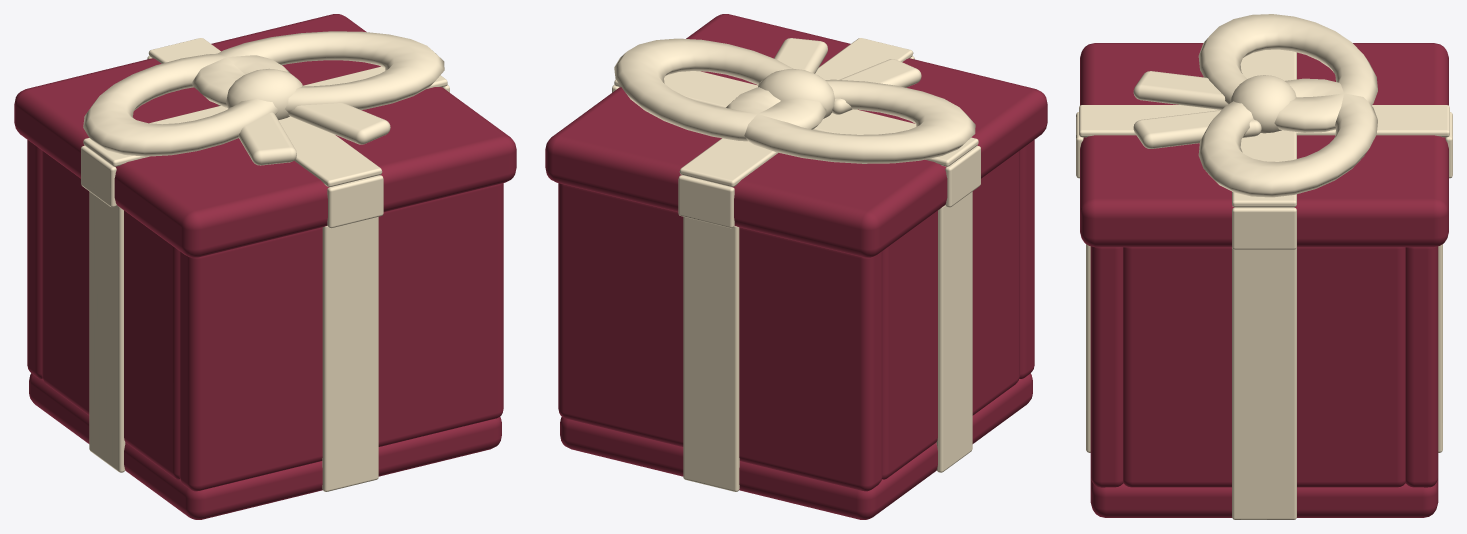
The model's file is gift.glb.
3 renders of one model, left to right at view 1: azimuth 30°, elevation 25°; view 2: azimuth 150°, elevation 25°; view 3: azimuth 270°, elevation 25°, orthographic. The views are drawn at different scales.
Parts seen in each view (by area): view 1: Gift_Body, Gift_Lid, Gift_Bow; view 2: Gift_Body, Gift_Lid, Gift_Bow; view 3: Gift_Body, Gift_Lid, Gift_Bow.
Boxes of the visible parts, left/top/right/bottom form: Gift_Body: left=27, top=140, right=503, bottom=519; Gift_Lid: left=14, top=14, right=516, bottom=257; Gift_Bow: left=83, top=31, right=444, bottom=165; Gift_Body: left=558, top=140, right=1034, bottom=519; Gift_Lid: left=545, top=14, right=1047, bottom=257; Gift_Bow: left=614, top=38, right=975, bottom=163; Gift_Body: left=1086, top=244, right=1442, bottom=519; Gift_Lid: left=1076, top=43, right=1452, bottom=249; Gift_Bow: left=1133, top=14, right=1377, bottom=197.
Size of the model in its own units: 0.9452 by 0.9244 by 0.868.
